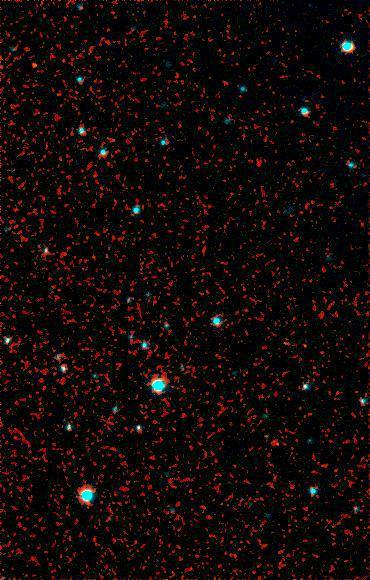star: (18, 50, 48, 80)
